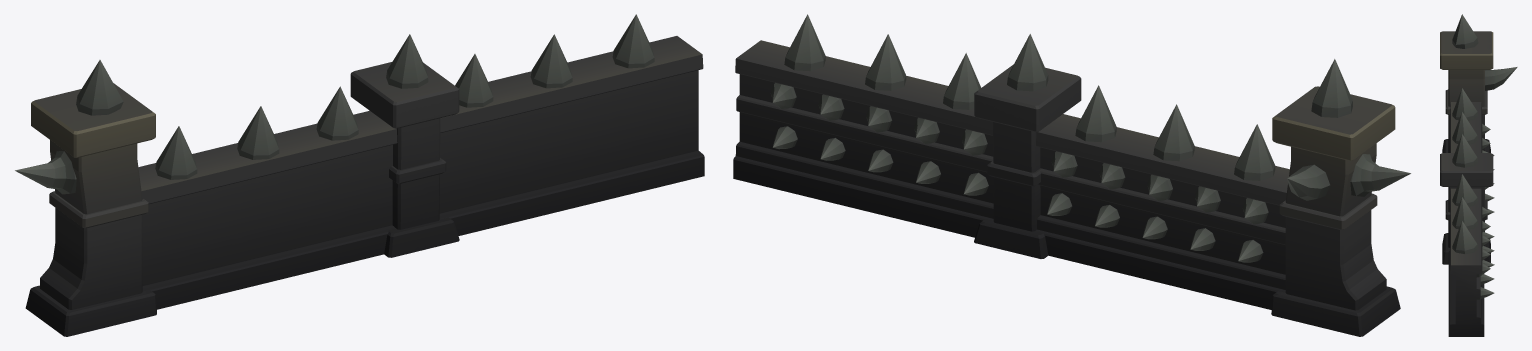
Rendered from Galvadore_boundary_wall1.fbx.
The picture shows the model from 3 angles, left to right: view 1: azimuth 30°, elevation 25°; view 2: azimuth 150°, elevation 25°; view 3: azimuth 270°, elevation 25°; orthographic projection. The views are drawn at different scales.
Parts seen in each view (by area): view 1: Galvadore_boundary_wall1; view 2: Galvadore_boundary_wall1; view 3: Galvadore_boundary_wall1.
Part boxes in pixels (left/top/right/bottom): Galvadore_boundary_wall1: left=15, top=14, right=704, bottom=336; Galvadore_boundary_wall1: left=733, top=14, right=1410, bottom=336; Galvadore_boundary_wall1: left=1440, top=14, right=1517, bottom=336.
Bounding box in the file's own units: 219 × 78.7 × 36.87.
1 material, 1 textured.
